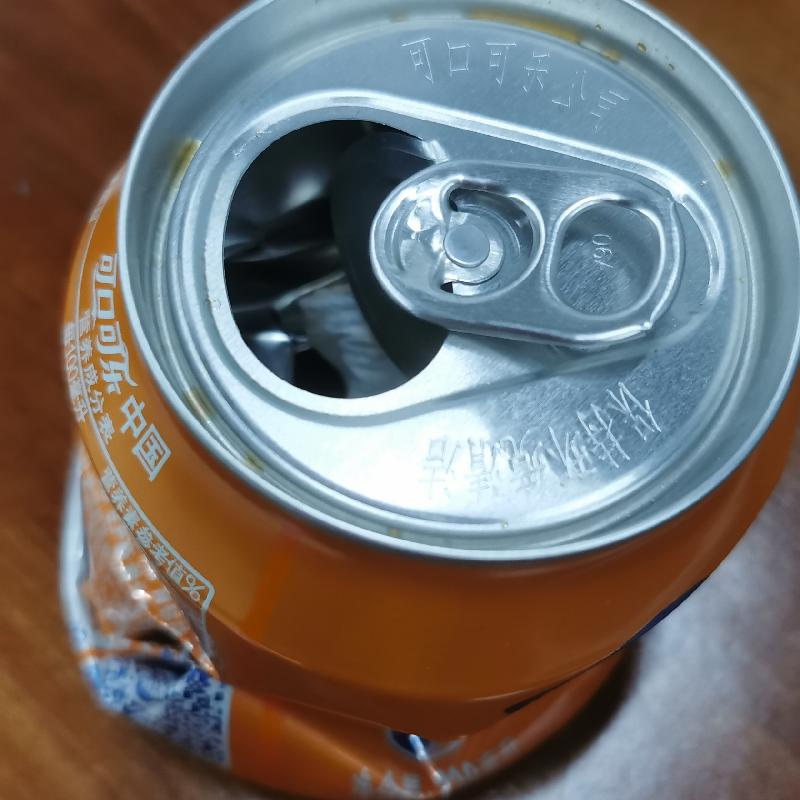cans: (55, 1, 799, 799)
